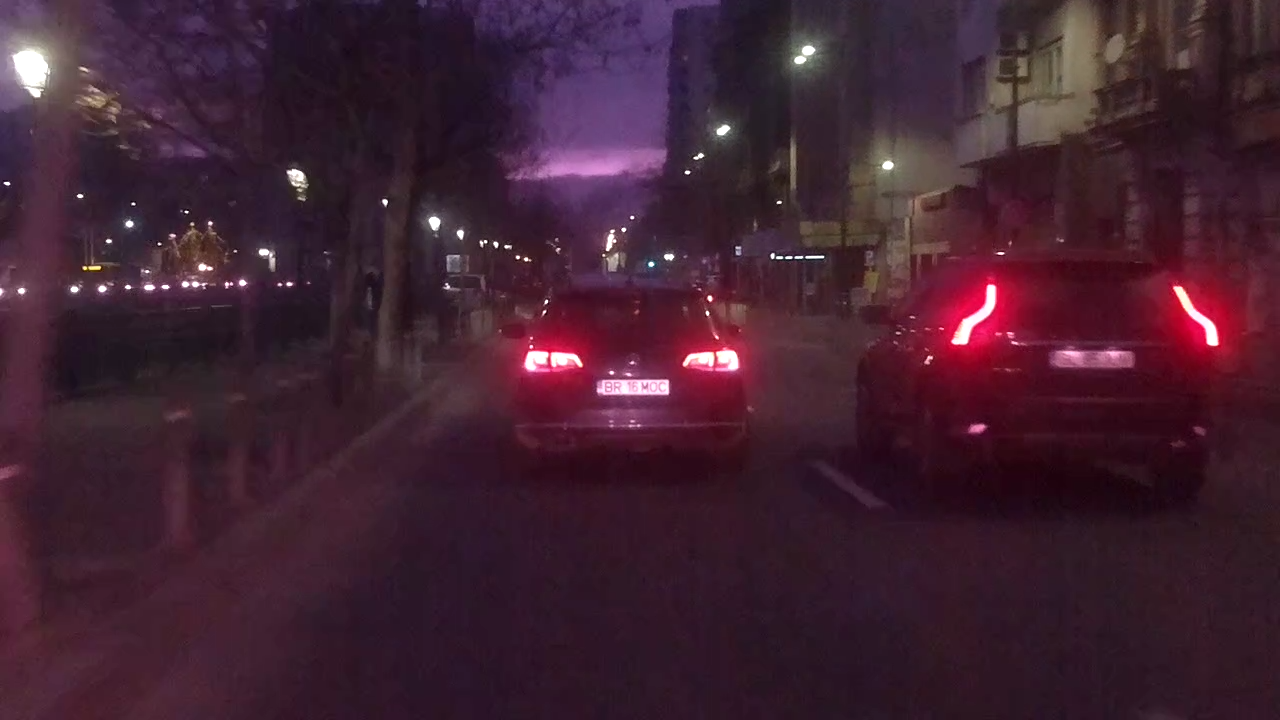license-plate: (594, 376, 672, 398)
